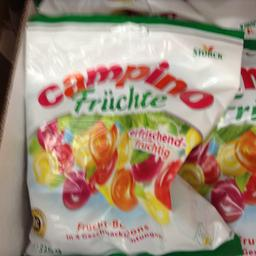candy: (25, 18, 230, 252)
